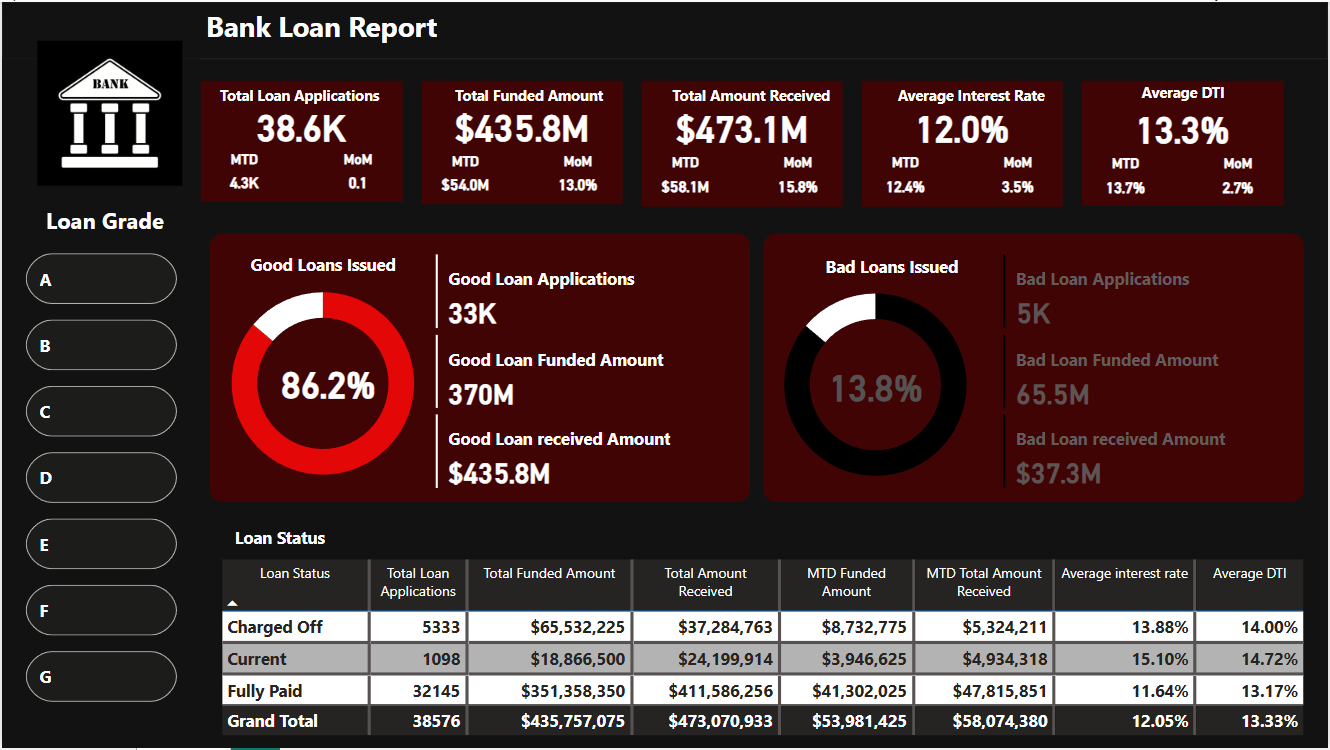

The dashboard page shown, as its layout file describes it:
{"tool":"powerbi","page":{"name":"Page 1","canvas":[1280,720],"ordinal":0},"visuals":[{"type":"shape","box":[200.2,223.5,521.9,259.7],"z":0},{"type":"card","fields":{"Values":["bank_loan_data.Good Loan %"]},"box":[242.9,332,144.7,71.1],"z":1000},{"type":"shape","box":[0,0,1280.3,55],"z":2000},{"type":"shape","box":[192.1,75.5,194.9,116.6],"z":2000,"group":"g3"},{"type":"shape","box":[405.5,76.1,193.9,119.2],"z":2000,"group":"g2"},{"type":"shape","box":[617.9,76.2,193.9,121.7],"z":2000,"group":"g4"},{"type":"shape","box":[830.3,76.2,193.9,121.7],"z":2000,"group":"g5"},{"type":"shape","box":[1042,76.5,194.4,121.2],"z":2000,"group":"g6"},{"type":"shape","box":[0,54.9,192,665.5],"z":3000},{"type":"card","fields":{"Values":["bank_loan_data.Total Loan Applications"]},"box":[200.3,83.7,177,68.6],"z":3000,"group":"g3"},{"type":"card","fields":{"Values":["bank_loan_data.Total Funded Amount"]},"box":[413.7,84.5,176.2,70.1],"z":3000,"group":"g2"},{"type":"card","fields":{"Values":["bank_loan_data.Total Amount Received"]},"box":[626.1,84.8,176.2,71.6],"z":3000,"group":"g4"},{"type":"card","fields":{"Values":["bank_loan_data.Average interest rate"]},"box":[838.5,84.8,176.2,71.6],"z":3000,"group":"g5"},{"type":"card","fields":{"Values":["bank_loan_data.Average DTI"]},"box":[1050.2,85.1,176.6,71.3],"z":3000,"group":"g6"},{"type":"textbox","box":[192.1,0,647.7,50.8],"z":4000},{"type":"textbox","box":[1040.9,72.3,193.8,38.8],"z":5000,"group":"g6"},{"type":"group","id":"g1","title":"Group 1","box":[192.1,75.5,194.9,116.6],"z":5000},{"type":"textbox","box":[205.8,75.5,181.1,32.9],"z":5000,"group":"g3"},{"type":"textbox","box":[419.2,76.1,180.3,33.6],"z":5000,"group":"g2"},{"type":"textbox","box":[631.6,76.2,180.3,34.4],"z":5000,"group":"g4"},{"type":"textbox","box":[844,76.2,180.3,34.4],"z":5000,"group":"g5"},{"type":"card","title":"MTD","fields":{"Values":["bank_loan_data.MTD loan Application"]},"box":[200.3,144.1,67.2,48],"z":6000,"group":"g3"},{"type":"card","title":"MTD","fields":{"Values":["bank_loan_data.MTD Funded Amount"]},"box":[413.7,146.2,66.9,49.1],"z":6000,"group":"g2"},{"type":"card","title":"MTD","fields":{"Values":["bank_loan_data.MTD Total Amount Received"]},"box":[626.1,147.8,66.9,50.1],"z":6000,"group":"g4"},{"type":"card","title":"MTD","fields":{"Values":["bank_loan_data.MTD Average int rate"]},"box":[838.5,147.8,66.9,50.1],"z":6000,"group":"g5"},{"type":"card","title":"MTD","fields":{"Values":["bank_loan_data.MTD Average DTI"]},"box":[1050.2,147.8,67.1,49.9],"z":6000,"group":"g6"},{"type":"textbox","box":[219.6,237.7,180.9,32.3],"z":6000},{"type":"group","id":"g2","title":"Group 2","box":[405.5,76.1,193.9,119.2],"z":7000},{"type":"card","title":"MoM","fields":{"Values":["bank_loan_data.MoM Loan Applications"]},"box":[310.1,144.1,67.2,48],"z":7000,"group":"g3"},{"type":"card","title":"MoM","fields":{"Values":["bank_loan_data.MoM Total Funded Amount"]},"box":[523,146.2,66.9,49.1],"z":7000,"group":"g2"},{"type":"card","title":"MoM","fields":{"Values":["bank_loan_data.MoM Amount Received"]},"box":[735.4,147.8,66.9,50.1],"z":7000,"group":"g4"},{"type":"card","title":"MoM","fields":{"Values":["bank_loan_data.MoM Average int rate"]},"box":[947.8,147.8,66.9,50.1],"z":7000,"group":"g5"},{"type":"card","title":"MoM","fields":{"Values":["bank_loan_data.MoM Average DTI"]},"box":[1159.7,147.8,67.1,49.9],"z":7000,"group":"g6"},{"type":"group","id":"g3","title":"Group 2","box":[192.1,75.5,194.9,116.6],"z":7002,"group":"g1"},{"type":"group","id":"g4","title":"Group 2","box":[617.9,76.2,193.8,121.4],"z":8000},{"type":"group","id":"g5","title":"Group 2","box":[830.3,76.2,193.8,121.4],"z":9000},{"type":"group","id":"g6","title":"Group 2","box":[1040.9,72.3,195.4,125.4],"z":10000},{"type":"shape","box":[735.1,223.5,521.9,259.7],"z":11000},{"type":"donutChart","fields":{"Category":["bank_loan_data.Good vs. Bad Loans"],"Y":["bank_loan_data.Total Loan Applications"]},"box":[184.7,253.2,250.6,230],"z":12000},{"type":"cardVisual","fields":{"Data":["bank_loan_data.Good Loan Applications","bank_loan_data.Good Loan Funded Amount","bank_loan_data.Good Loan received Amount"]},"box":[413.4,239,295.8,236.4],"z":13000},{"type":"donutChart","fields":{"Category":["bank_loan_data.Good vs. Bad Loans"],"Y":["bank_loan_data.Total Loan Applications"]},"box":[718.3,254.5,250.6,230],"z":14000},{"type":"textbox","box":[768.7,239,180.9,32.3],"z":15000},{"type":"card","fields":{"Values":["bank_loan_data.Bad Loan %"]},"box":[771.3,334.6,144.7,71.1],"z":16000},{"type":"cardVisual","fields":{"Data":["bank_loan_data.Bad Loan Applications","bank_loan_data.Bad Loan Funded Amount","bank_loan_data.Bad Loan received Amount"]},"box":[961.2,239,295.8,236.4],"z":17000},{"type":"tableEx","fields":{"Values":["bank_loan_data.loan_status","bank_loan_data.Total Loan Applications","bank_loan_data.Total Funded Amount","bank_loan_data.Total Amount Received","bank_loan_data.MTD Funded Amount","bank_loan_data.MTD Total Amount Received","bank_loan_data.Average interest rate","bank_loan_data.Average DTI"]},"box":[206.7,533.6,1056.8,186],"z":18000},{"type":"textbox","box":[219.6,501.3,180.9,32.3],"z":19000},{"type":"advancedSlicerVisual","title":"Loan Grade","fields":{"Values":["bank_loan_data.grade"]},"box":[18.1,237.7,156.3,448.3],"z":20000},{"type":"textbox","box":[37.5,191.2,155,43.9],"z":21000},{"type":"image","box":[15.5,32.3,177,149.9],"z":22000}]}

Visuals, with their boxes in screenshot pixels (x1, y1, x2, y2), scaled from the page's 1280x720 canvas onto the 1330x750 screenshot:
shape: 208/233/750/503
card - bank_loan_data.Good Loan %: 252/346/403/420
shape: 0/0/1329/57
shape: 200/79/402/200
shape: 421/79/623/203
shape: 642/79/844/206
shape: 863/79/1064/206
shape: 1083/80/1285/206
shape: 0/57/200/749
card - bank_loan_data.Total Loan Applications: 208/87/392/159
card - bank_loan_data.Total Funded Amount: 430/88/613/161
card - bank_loan_data.Total Amount Received: 651/88/834/163
card - bank_loan_data.Average interest rate: 871/88/1054/163
card - bank_loan_data.Average DTI: 1091/89/1275/163
textbox: 200/0/873/53
textbox: 1082/75/1283/116
"Group 1" group: 200/79/402/200
textbox: 214/79/402/113
textbox: 436/79/623/114
textbox: 656/79/844/115
textbox: 877/79/1064/115
"MTD" card: 208/150/278/200
"MTD" card: 430/152/499/203
"MTD" card: 651/154/720/206
"MTD" card: 871/154/941/206
"MTD" card: 1091/154/1161/206
textbox: 228/248/416/281
"Group 2" group: 421/79/623/203
"MoM" card: 322/150/392/200
"MoM" card: 543/152/613/203
"MoM" card: 764/154/834/206
"MoM" card: 985/154/1054/206
"MoM" card: 1205/154/1275/206
"Group 2" group: 200/79/402/200
"Group 2" group: 642/79/843/206
"Group 2" group: 863/79/1064/206
"Group 2" group: 1082/75/1285/206
shape: 764/233/1306/503
donutChart - bank_loan_data.Good vs. Bad Loans x bank_loan_data.Total Loan Applications: 192/264/452/503
cardVisual - bank_loan_data.Good Loan Applications x bank_loan_data.Good Loan Funded Amount: 430/249/737/495
donutChart - bank_loan_data.Good vs. Bad Loans x bank_loan_data.Total Loan Applications: 746/265/1007/505
textbox: 799/249/987/283
card - bank_loan_data.Bad Loan %: 801/349/952/423
cardVisual - bank_loan_data.Bad Loan Applications x bank_loan_data.Bad Loan Funded Amount: 999/249/1306/495
tableEx - bank_loan_data.loan_status x bank_loan_data.Total Loan Applications: 215/556/1313/749
textbox: 228/522/416/556
"Loan Grade" advancedSlicerVisual: 19/248/181/715
textbox: 39/199/200/245
image: 16/34/200/190
